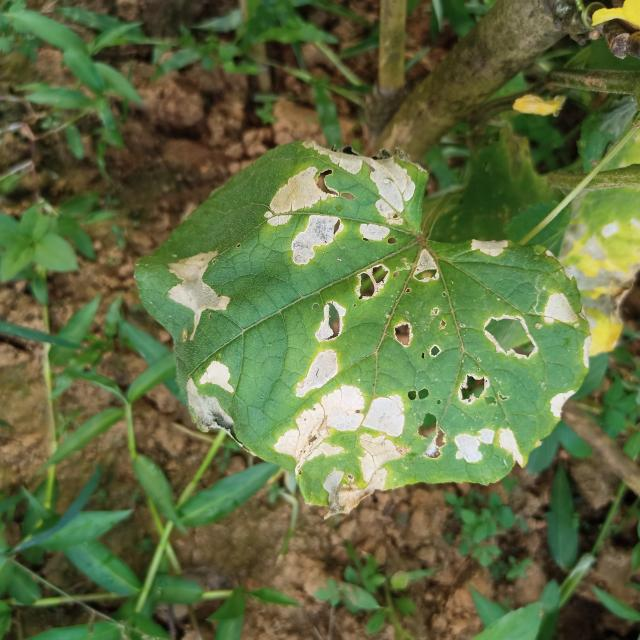disease_cucumber: (159, 138, 577, 510)
